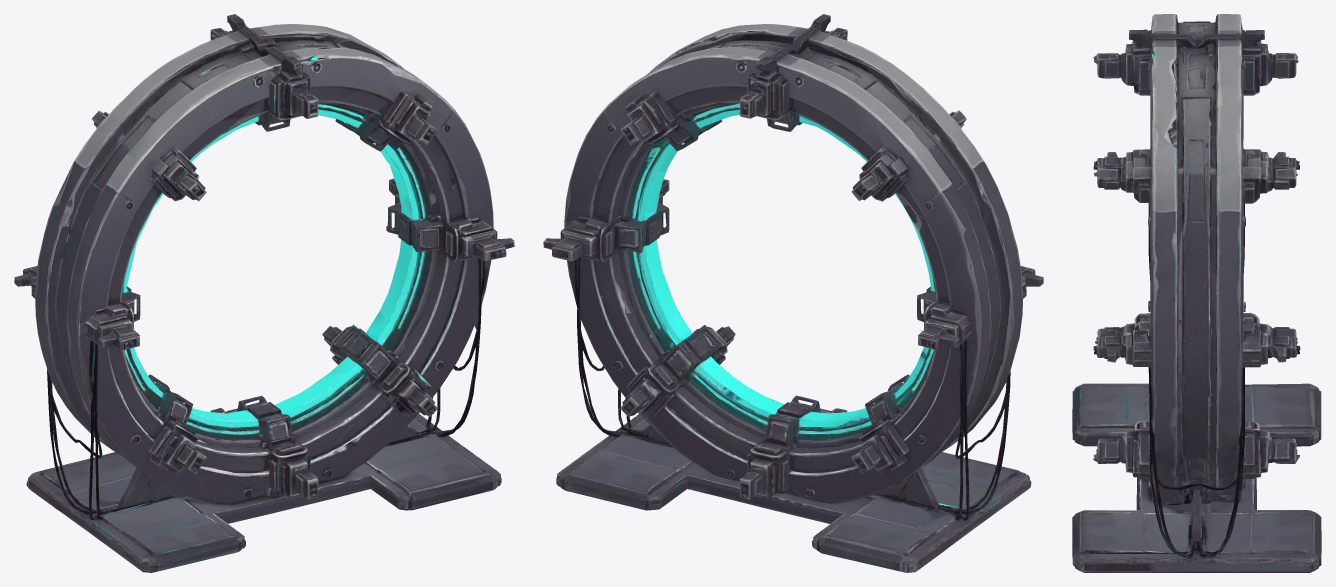
Rendered from transit-hyperloop-gate.glb.
3 views of the same model, side by side, from view 1: azimuth 30°, elevation 25°; view 2: azimuth 150°, elevation 25°; view 3: azimuth 270°, elevation 25° (orthographic).
Visible parts, largest first — view 1: Mesh_0; view 2: Mesh_0; view 3: Mesh_0.
Boxes of the visible parts, x1,y1,x2,y2 form: Mesh_0: (14, 14, 514, 572); Mesh_0: (543, 14, 1043, 572); Mesh_0: (1072, 14, 1321, 572).
Bounding box in the file's own units: 1.85 × 1.9 × 0.9448.
1 material, 1 textured.
